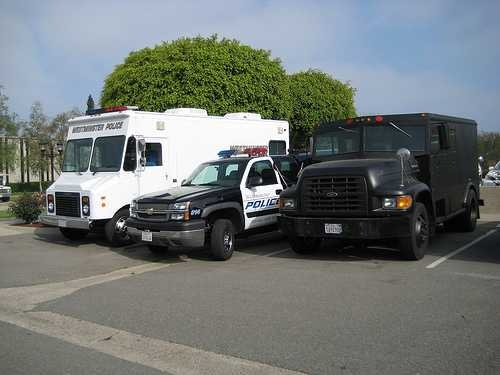Police Car: (125, 133, 298, 270)
